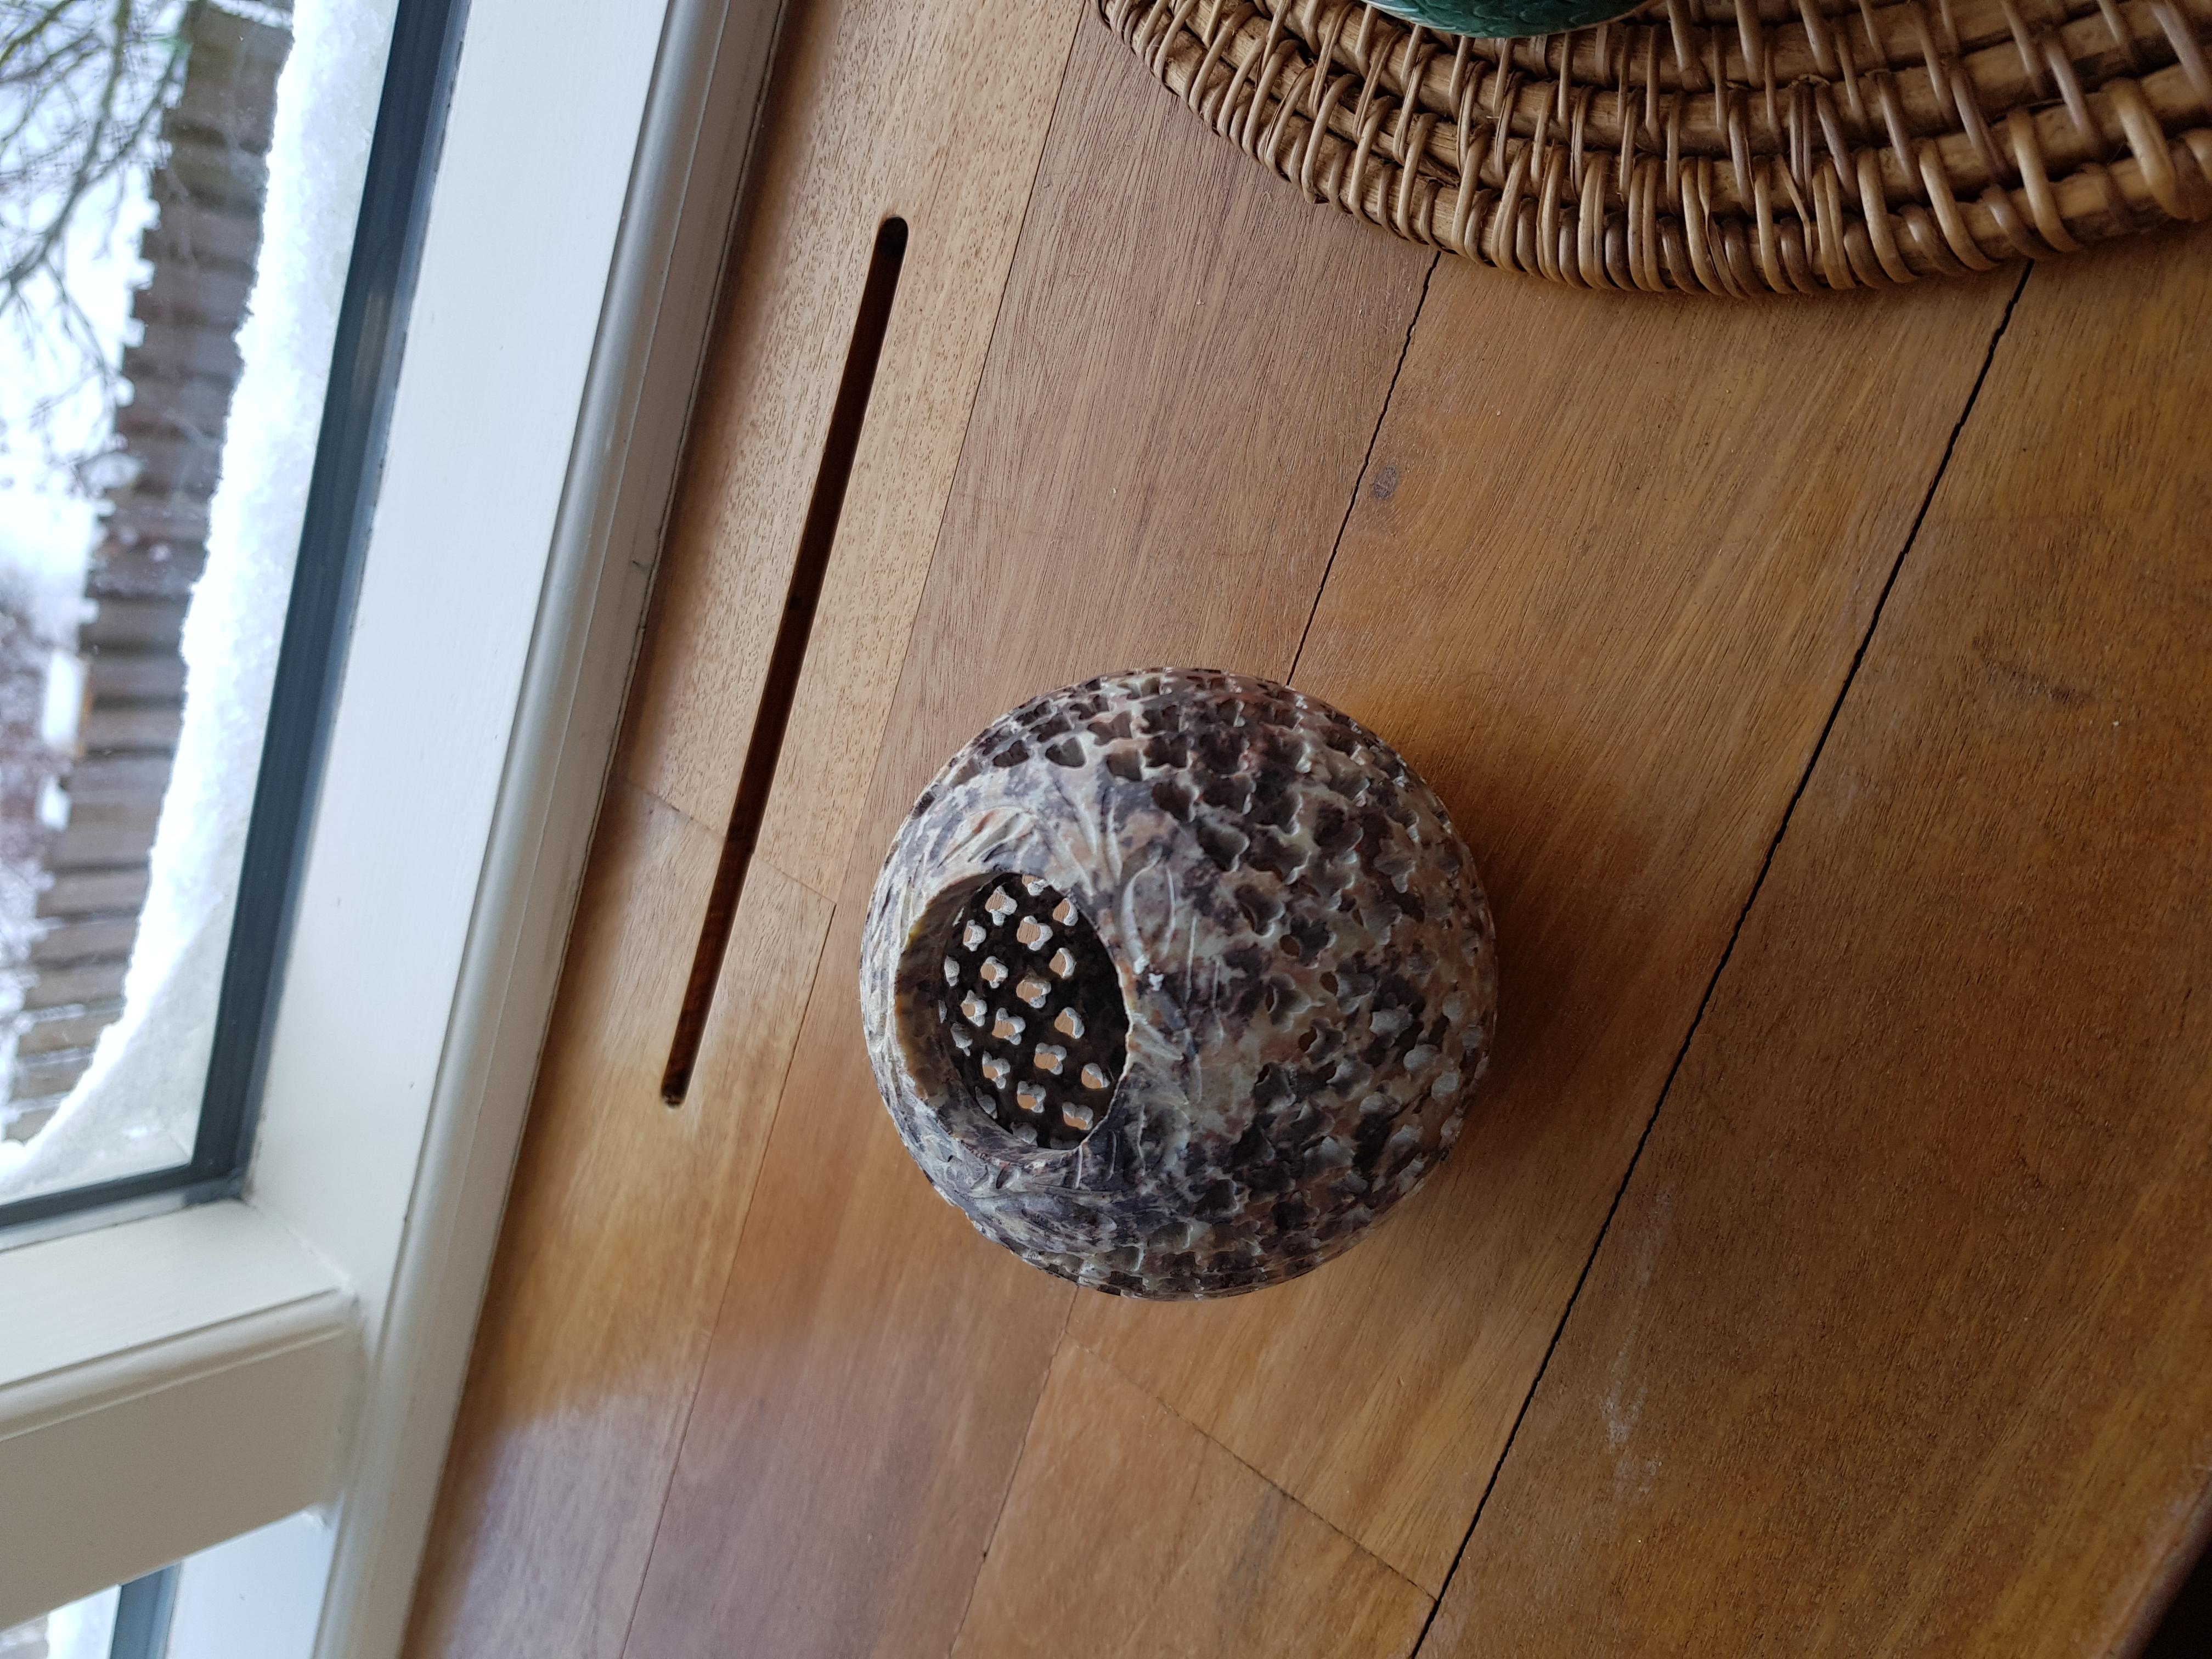sphere: (831, 648, 1503, 1307)
